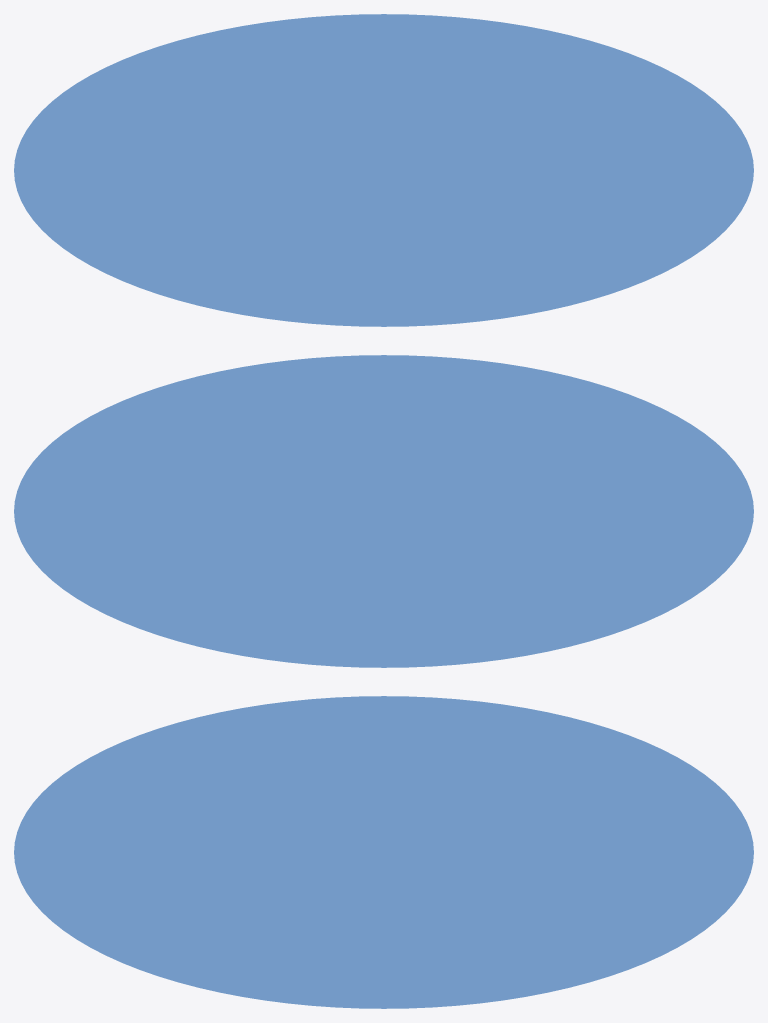
File: water-swell-48-near.glb
3 renders of one model, top to bottom at view 1: azimuth 30°, elevation 25°; view 2: azimuth 150°, elevation 25°; view 3: azimuth 270°, elevation 25°, orthographic.
Visible parts, largest first — view 1: SwellNear; view 2: SwellNear; view 3: SwellNear.
Boxes of the visible parts, left/top/right/bottom form: SwellNear: left=14, top=14, right=753, bottom=326; SwellNear: left=14, top=355, right=753, bottom=667; SwellNear: left=14, top=696, right=753, bottom=1008.
Size of the model in its own units: 576 by 0 by 576.
